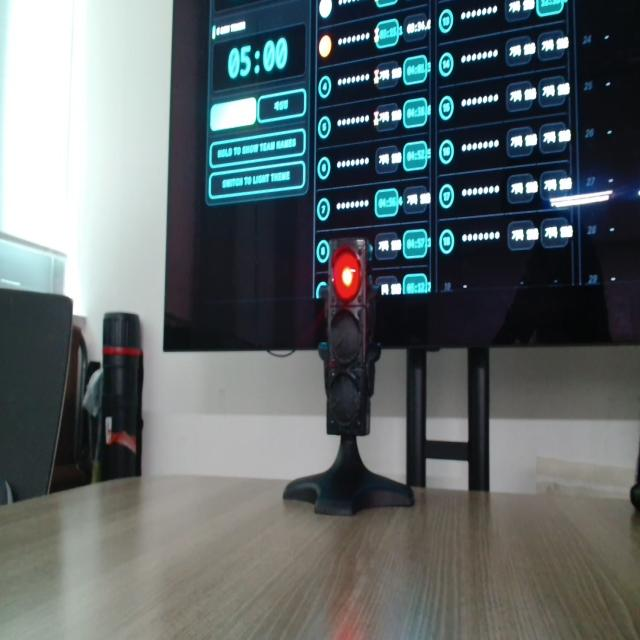red_light: (333, 248, 361, 302)
